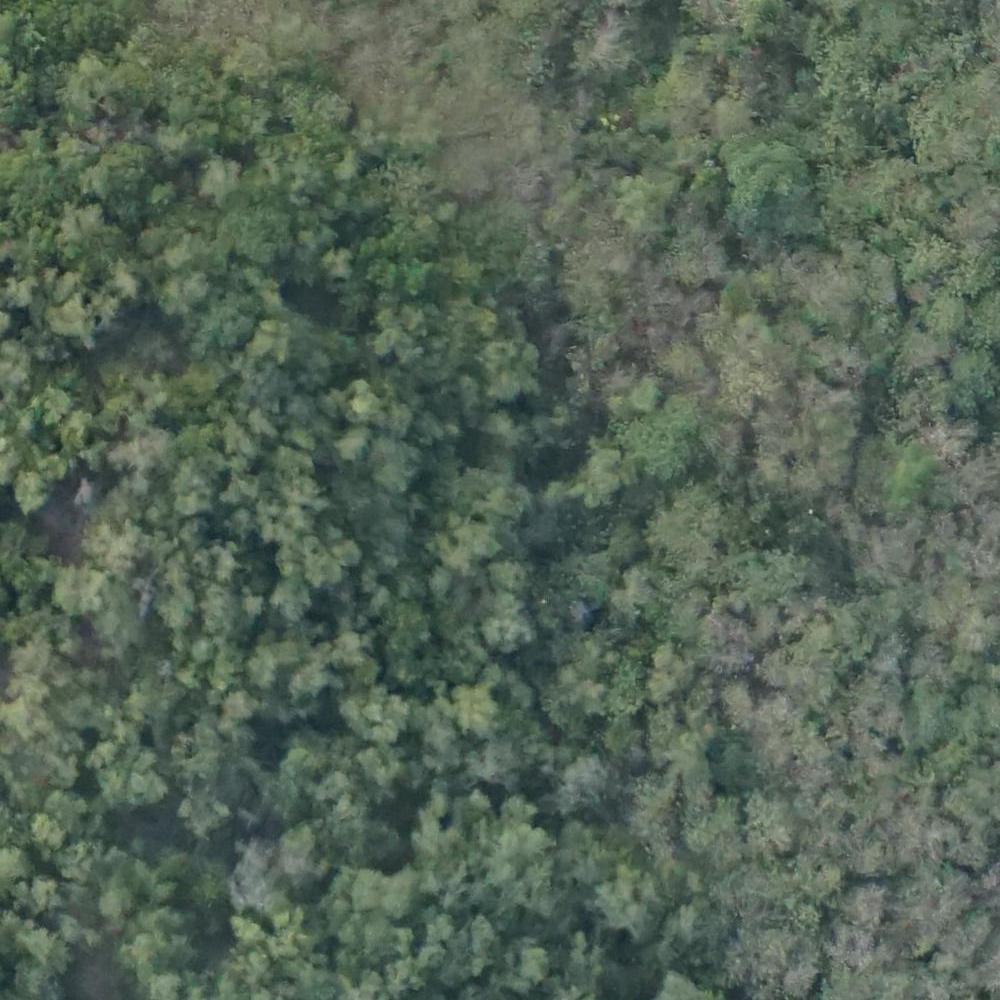tree: (652, 488, 730, 563), (230, 913, 313, 981), (636, 419, 709, 490), (572, 17, 648, 83), (480, 339, 542, 412), (598, 864, 655, 938), (230, 205, 294, 270), (372, 301, 430, 367), (888, 440, 944, 508), (130, 909, 193, 968), (790, 843, 845, 909), (65, 3, 122, 59), (615, 176, 667, 236), (363, 439, 420, 493), (51, 563, 105, 620), (454, 683, 506, 740), (174, 792, 232, 843), (645, 646, 699, 700), (55, 204, 113, 253), (355, 692, 405, 746), (173, 462, 226, 511), (224, 35, 269, 90), (9, 473, 62, 519), (199, 586, 247, 636), (100, 138, 151, 185), (159, 267, 207, 316), (483, 603, 531, 651), (351, 863, 395, 913), (826, 925, 871, 973), (564, 755, 609, 799), (300, 536, 341, 584), (851, 884, 892, 929), (203, 154, 246, 195), (456, 516, 496, 560), (343, 381, 379, 420), (251, 323, 289, 359), (222, 689, 258, 722), (628, 381, 667, 411), (395, 261, 429, 291), (362, 258, 392, 287)
